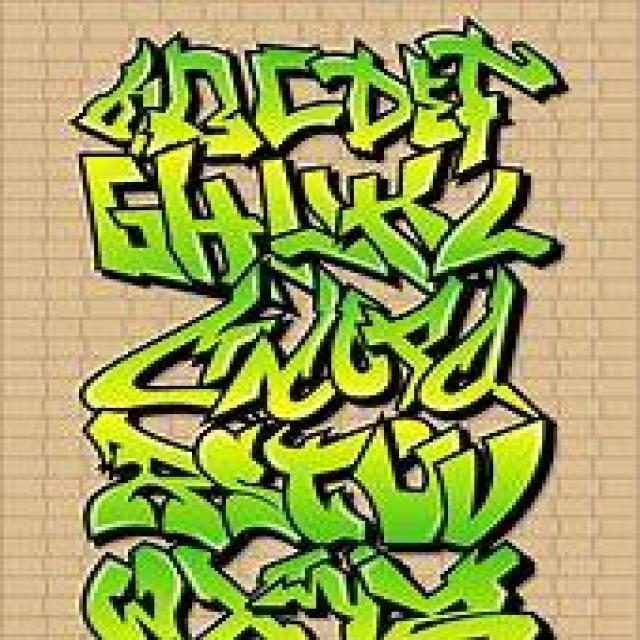nonspitting: (67, 15, 568, 640)
